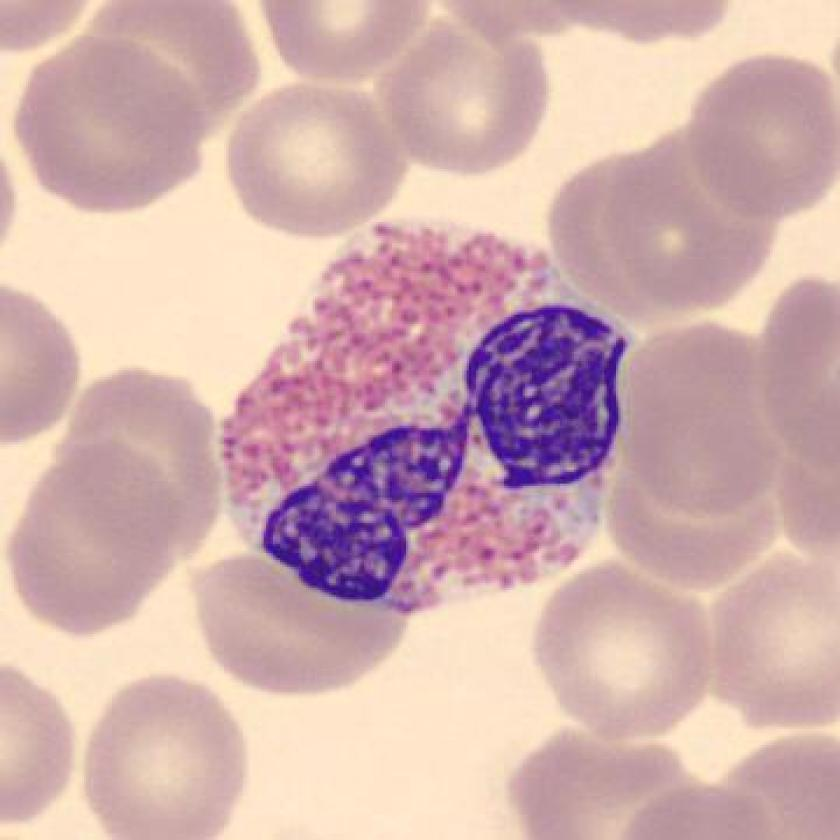eosinophil: (206, 200, 645, 626)
